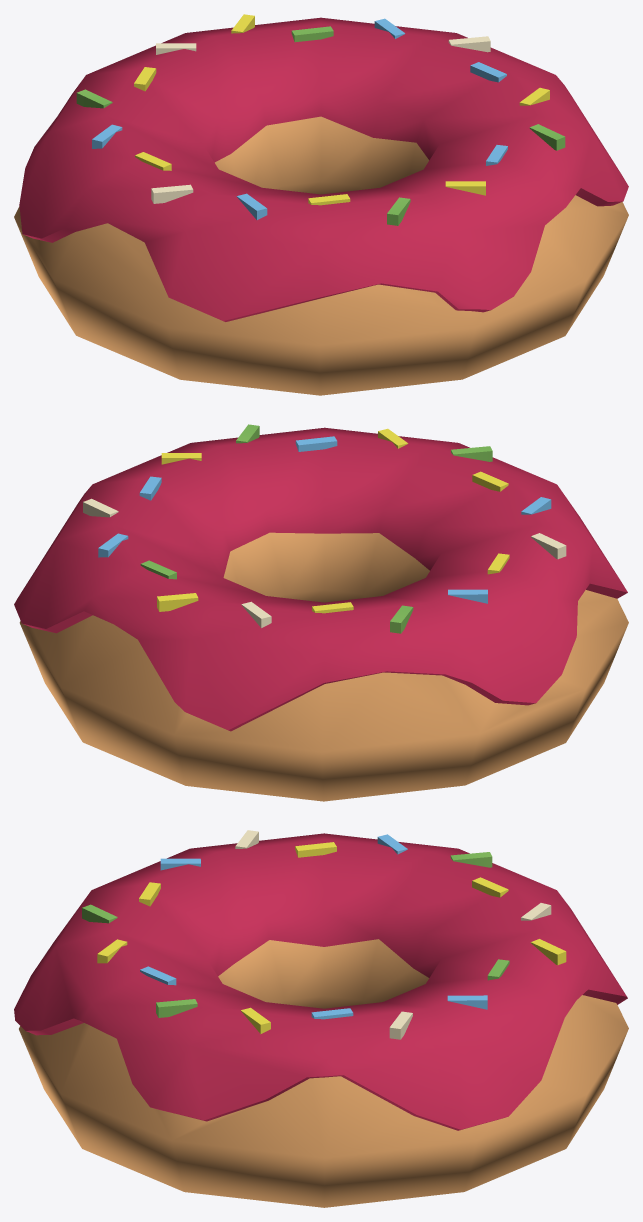
File: Donut_Visual.fbx
The picture shows the model from 3 angles, top to bottom: view 1: azimuth 30°, elevation 25°; view 2: azimuth 150°, elevation 25°; view 3: azimuth 270°, elevation 25°; orthographic projection.
Visible parts, largest first — view 1: Donut_Visual; view 2: Donut_Visual; view 3: Donut_Visual.
Boxes of the visible parts, bbox=[...] form: Donut_Visual: bbox=[14, 14, 628, 395]; Donut_Visual: bbox=[14, 424, 628, 801]; Donut_Visual: bbox=[14, 830, 628, 1207].
Bounding box in the file's own units: 21.92 × 6.57 × 22.16.
